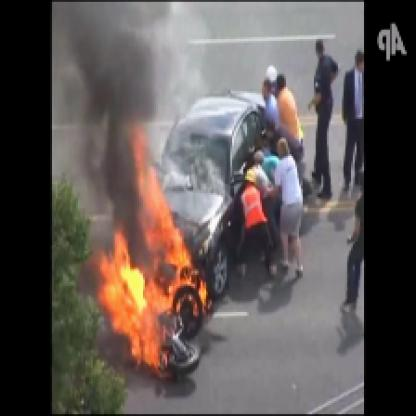Fire: (100, 140, 212, 374)
Smoke: (55, 2, 148, 238)
